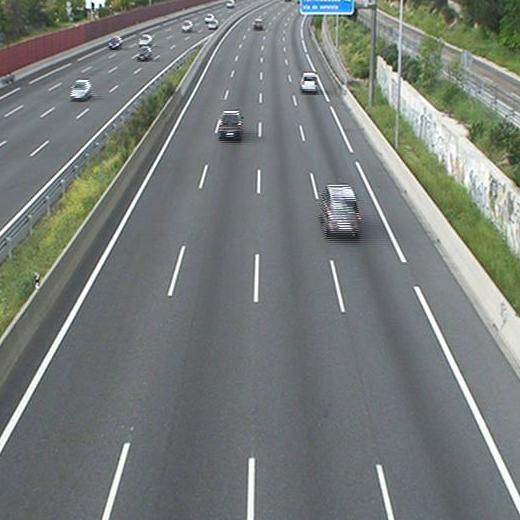car: (319, 186, 360, 234), (219, 111, 242, 135), (300, 73, 318, 92), (253, 19, 264, 29)
